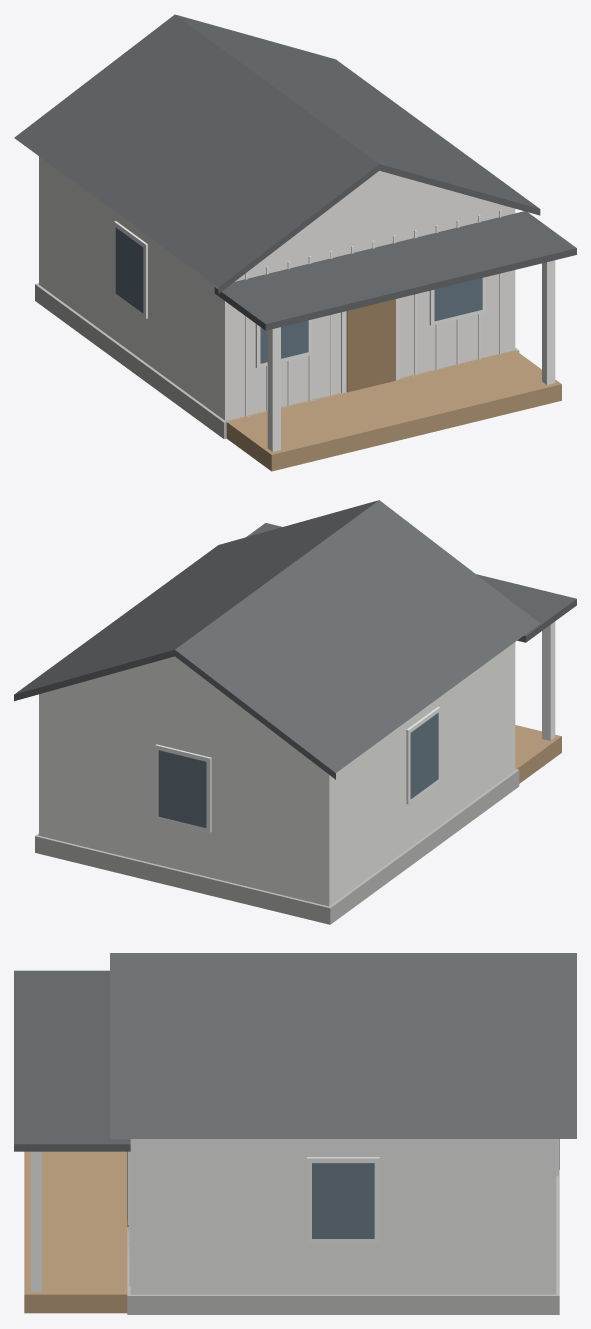
Rendered from garage-farmhouse.glb.
3 views of the same model, one above another, from view 1: azimuth 30°, elevation 25°; view 2: azimuth 150°, elevation 25°; view 3: azimuth 270°, elevation 25° (orthographic). The views are drawn at different scales.
Parts seen in each view (by area): view 1: The Conversion (farmhouse); view 2: The Conversion (farmhouse); view 3: The Conversion (farmhouse).
Boxes of the visible parts, x1=… form: The Conversion (farmhouse): x1=14, y1=14, x2=576, y2=471; The Conversion (farmhouse): x1=14, y1=500, x2=576, y2=924; The Conversion (farmhouse): x1=14, y1=953, x2=576, y2=1314.
Size of the model in its own units: 6.09 by 4.42 by 8.07.
